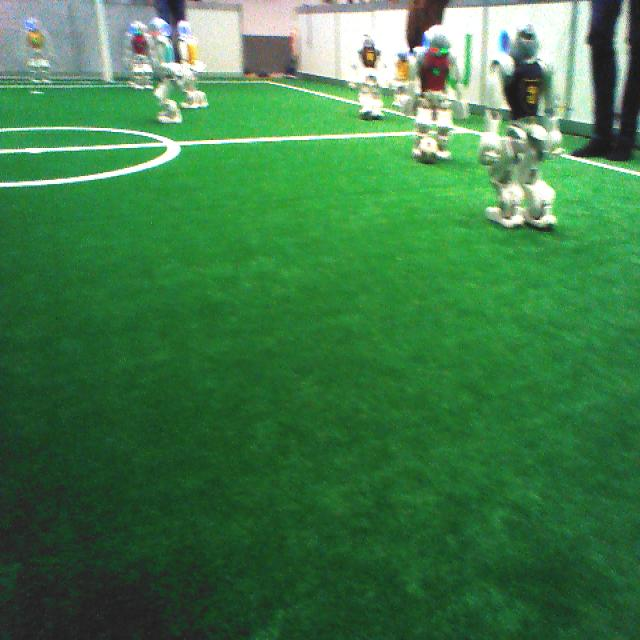ball: (416, 128, 446, 173)
goalpost: (94, 0, 114, 81)
